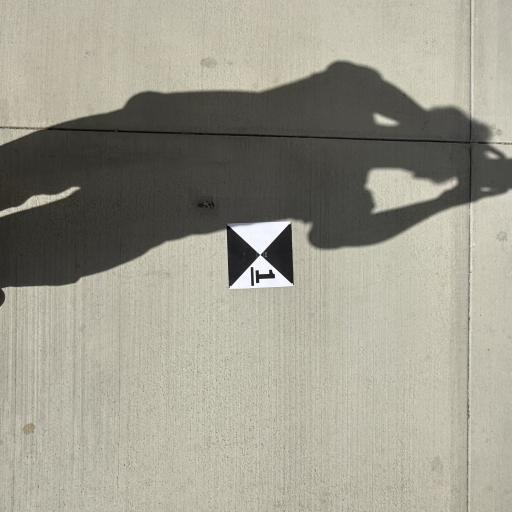target1: (224, 217, 295, 294)
